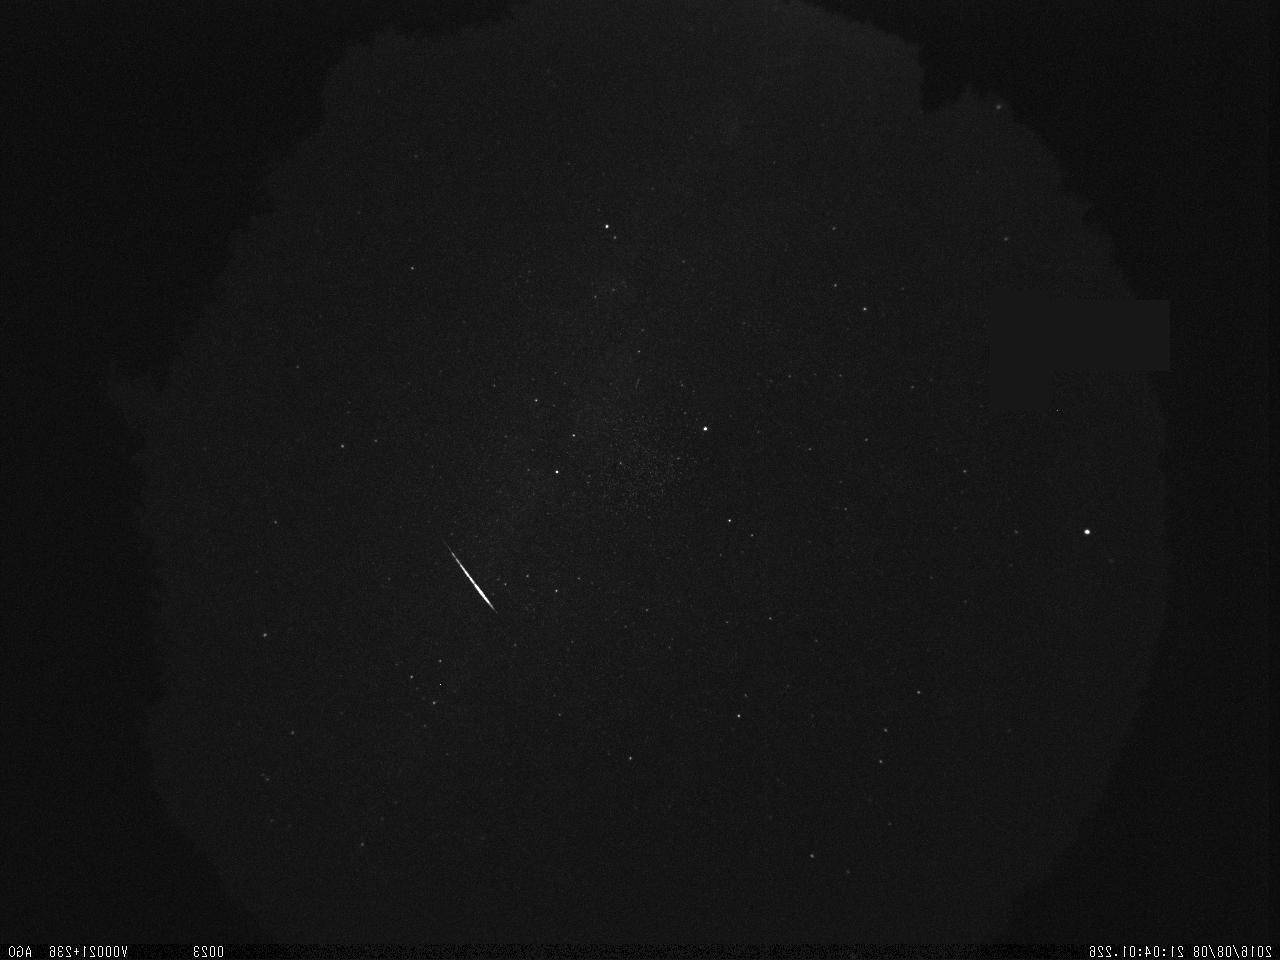meteor: (429, 532, 506, 625)
